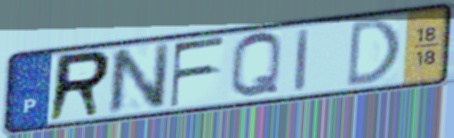D: (343, 16, 403, 91)
F: (168, 34, 228, 110)
I: (291, 25, 312, 94)
N: (107, 40, 173, 118)
Q: (227, 30, 285, 101)
R: (44, 48, 115, 125)
